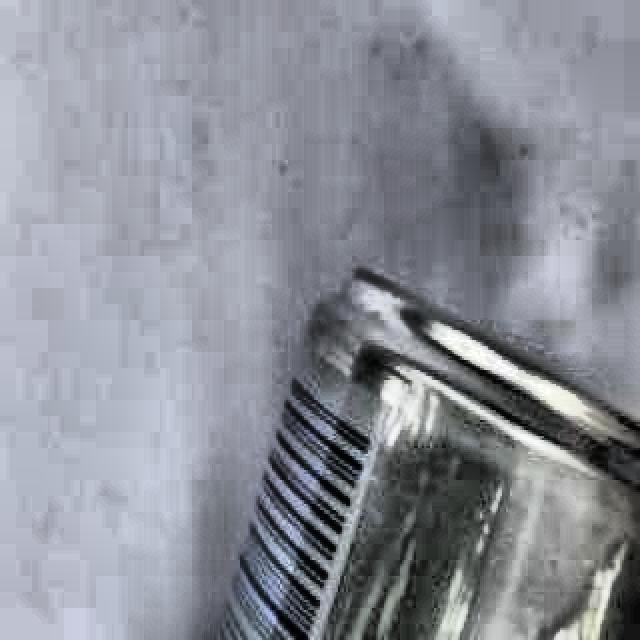metal: (203, 269, 640, 640)
